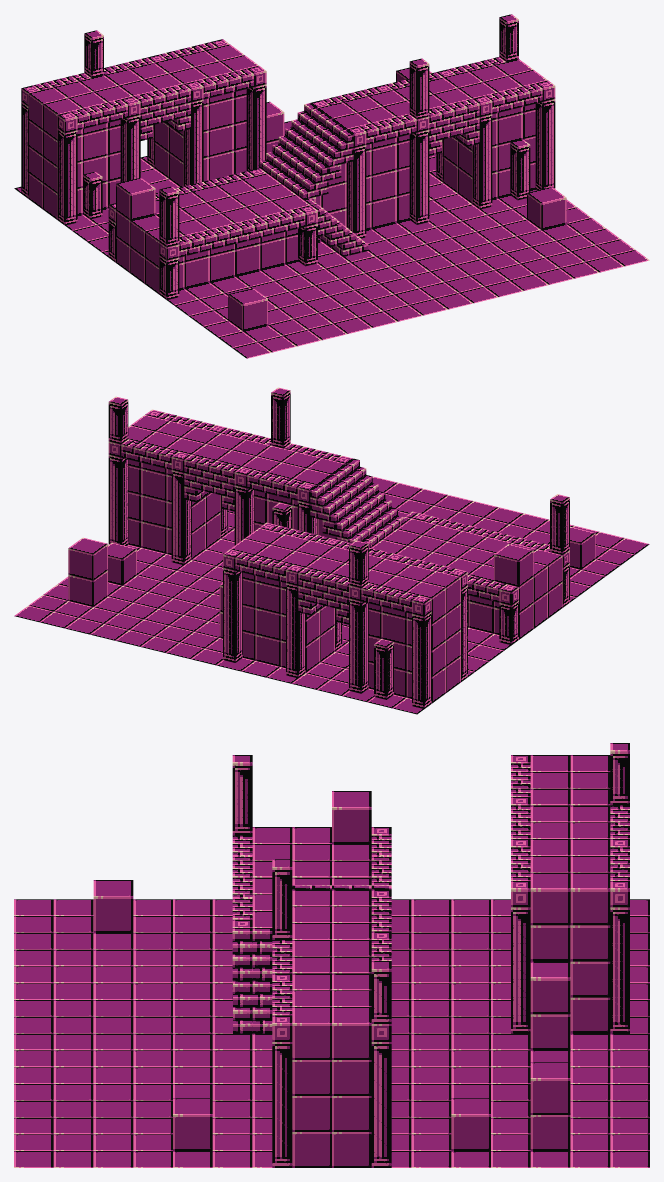
File: Retro_Pillars.fbx
3 views of the same model, one above another, from view 1: azimuth 30°, elevation 25°; view 2: azimuth 150°, elevation 25°; view 3: azimuth 270°, elevation 25° (orthographic). The views are drawn at different scales.
Visible parts, largest first — view 1: Ground; view 2: Ground; view 3: Ground.
Part boxes in pixels (x1,y1,x2,y2): Ground: (14,14,649,358); Ground: (14,387,649,714); Ground: (14,743,649,1167).
Size of the model in its own units: 160 by 60 by 160.
Materials: 1 (1 with a texture image).
